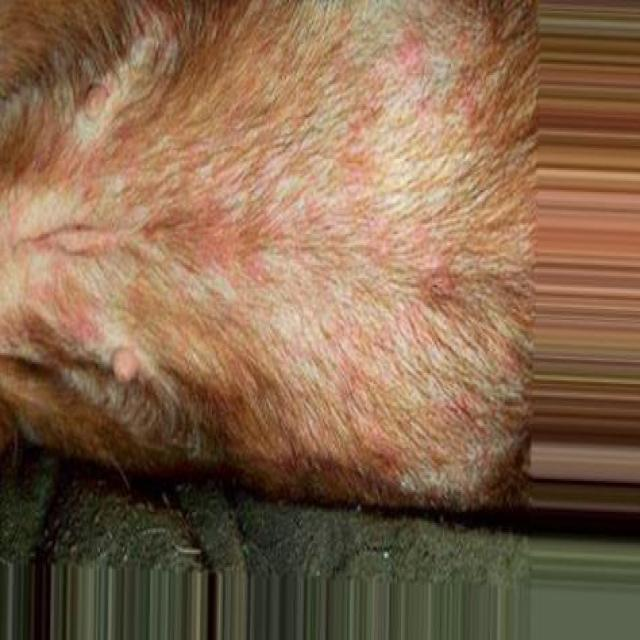di ung bo chet: (0, 0, 535, 509)
